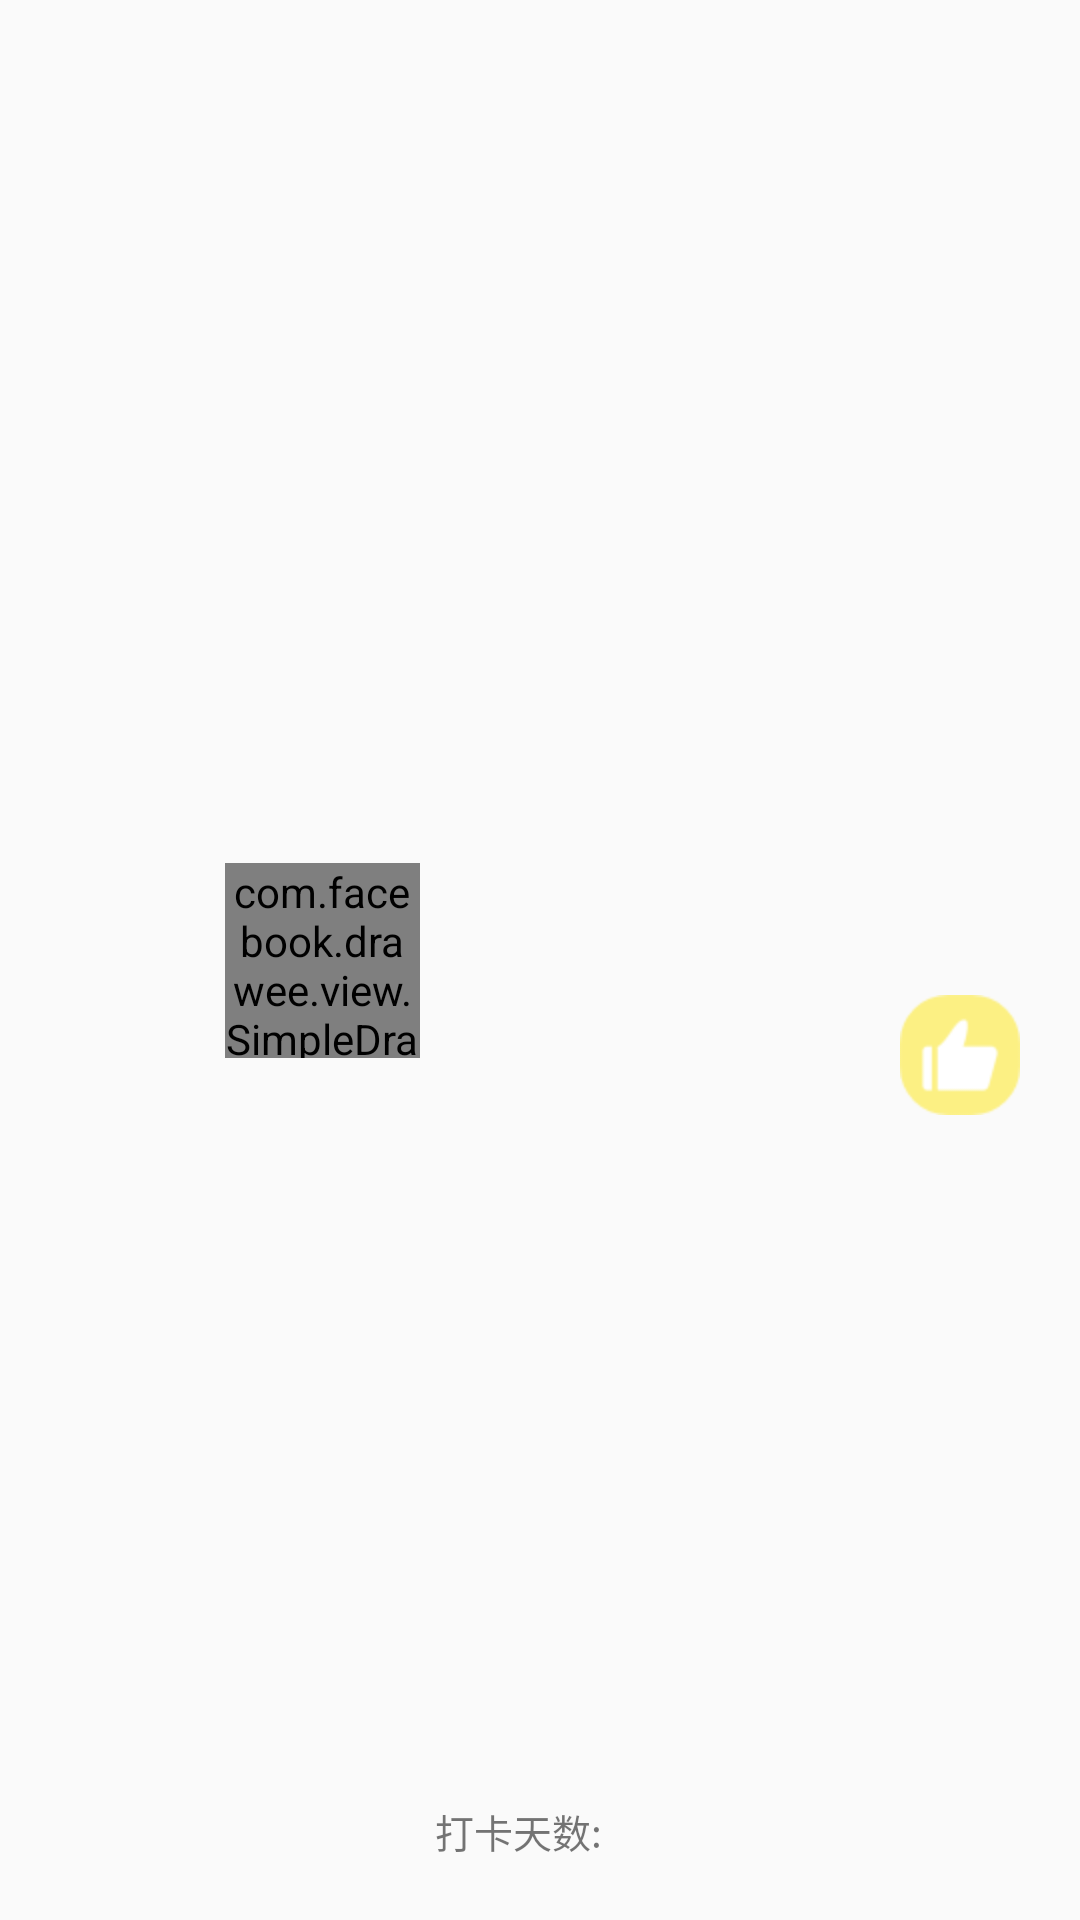

Icons on this 1080 × 1920 Android screen, each with its box as (x1, y1, x2, y2):
thumbsup: (900, 995, 1020, 1115)
